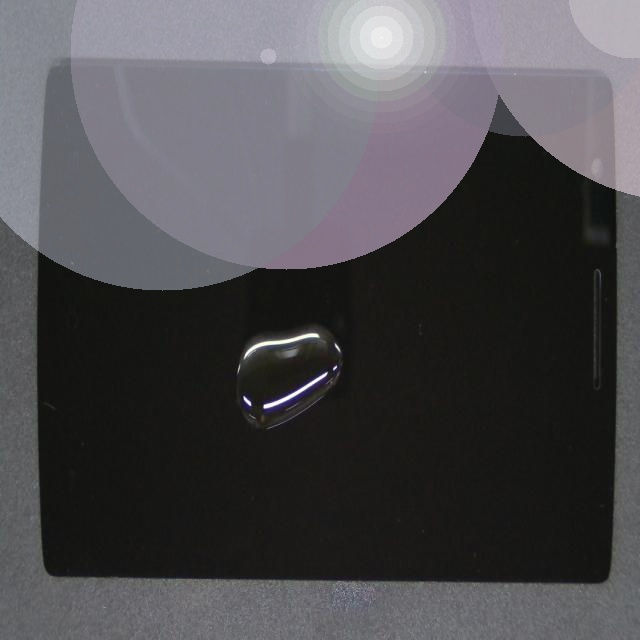oil: (184, 202, 518, 532)
